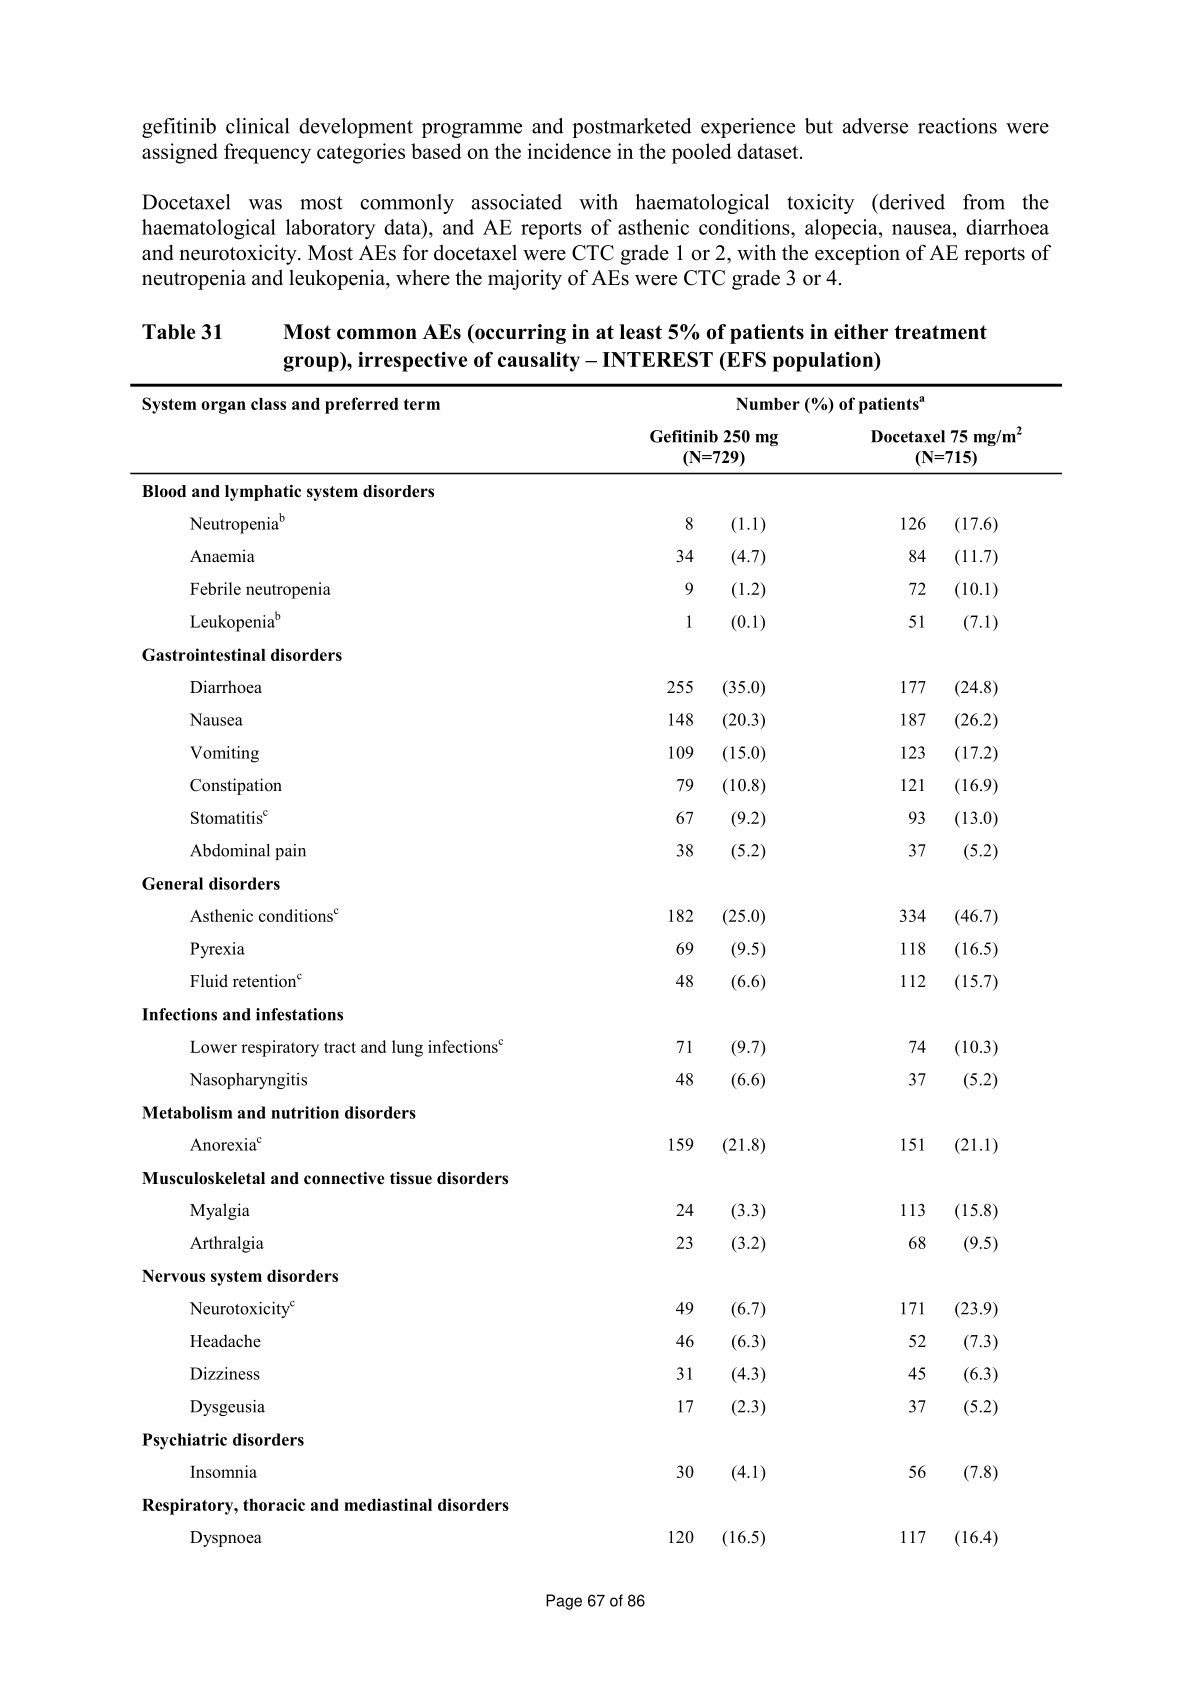partial_lined_merged_cells: (127, 382, 1062, 1554)
